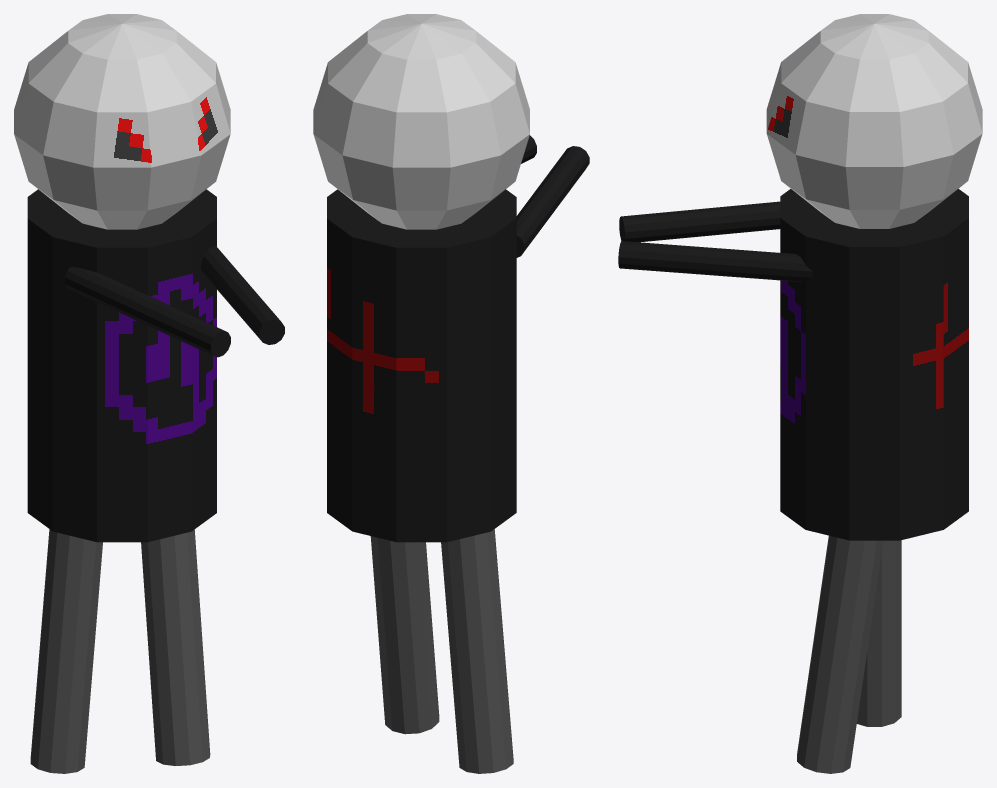
File: Gary.gltf
The picture shows the model from 3 angles, left to right: view 1: azimuth 30°, elevation 25°; view 2: azimuth 150°, elevation 25°; view 3: azimuth 270°, elevation 25°; orthographic projection.
Parts seen in each view (by area): view 1: cylinder (×5), sphere; view 2: cylinder (×4), sphere; view 3: cylinder (×5), sphere.
Part boxes in pixels (x1,y1,x2,y2): cylinder (×5): (27,189,284,773); sphere: (14,14,230,229); cylinder (×4): (327,146,589,773); sphere: (313,14,529,229); cylinder (×5): (618,189,968,773); sphere: (766,14,982,228).
Bounding box in the file's own units: 1 × 3.7 × 1.69.
Materials: 6 (6 with a texture image).
